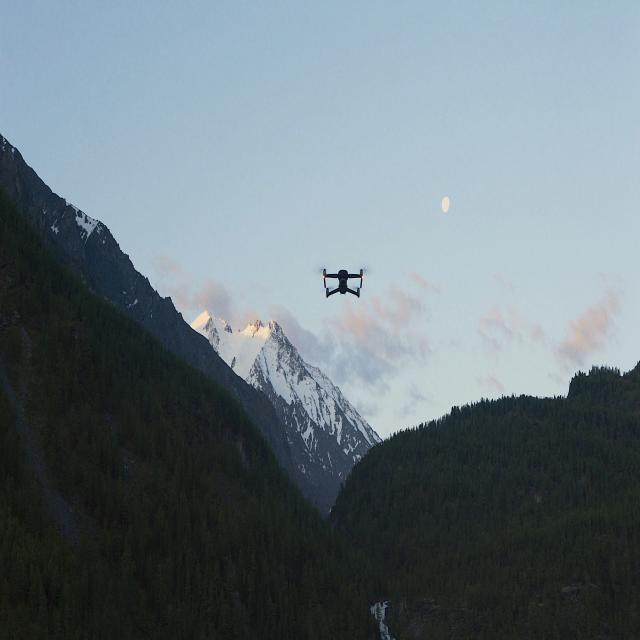Drone: (322, 268, 366, 299)
